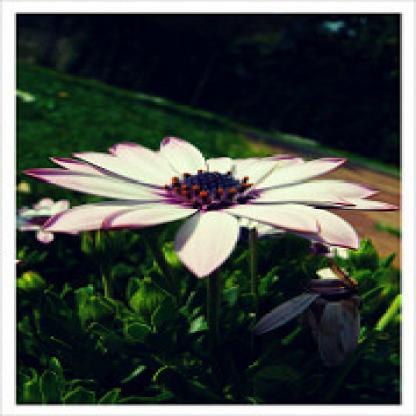ASTER: (31, 67, 394, 327)
